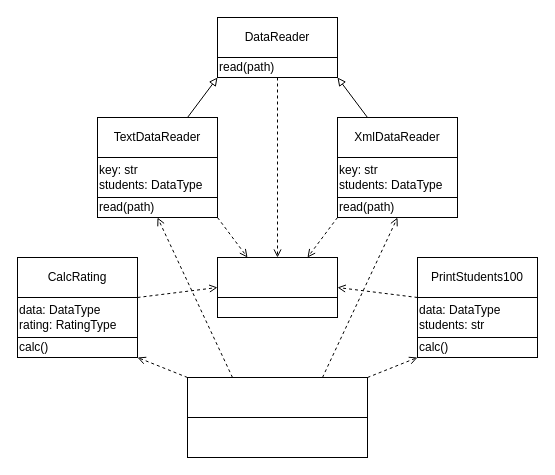
The diagram is 555 pixels wide and 475 high, and some of its shapes have lost their labels. Here are the shapes that lost their labels. From the top down, the box of each, then its label:
(216, 256, 338, 298): Types
(216, 296, 338, 318): DataType
(186, 376, 368, 418): main
(186, 416, 368, 458): get_path_from_arguments(args) main()
